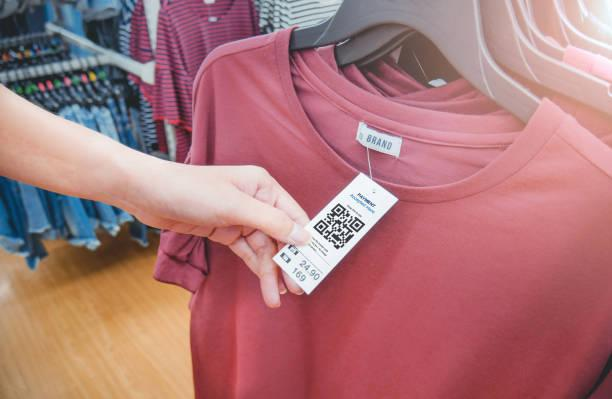Finder pattern: (312, 219, 333, 237), (330, 203, 348, 218), (349, 219, 366, 233)
